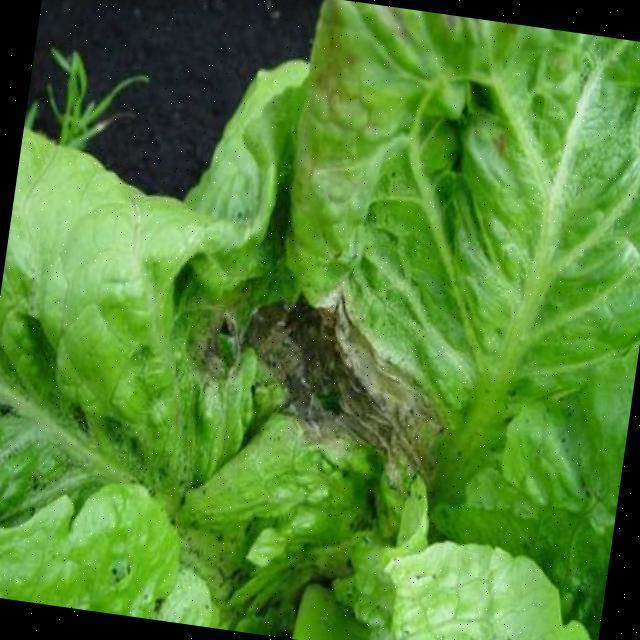Bacterial: (155, 253, 464, 559)
